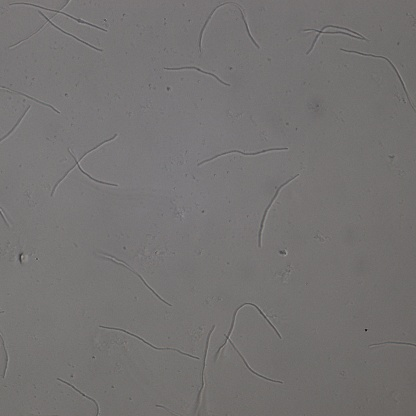Sensitive: (215, 301, 283, 385), (7, 1, 107, 54), (341, 49, 416, 114), (95, 251, 171, 306), (53, 134, 119, 193), (99, 325, 197, 358), (196, 2, 260, 52), (257, 174, 298, 247), (303, 22, 368, 59), (190, 325, 214, 416), (196, 145, 288, 167), (1, 83, 60, 113), (58, 377, 101, 416), (166, 67, 228, 85), (2, 104, 31, 138), (368, 338, 416, 348)
